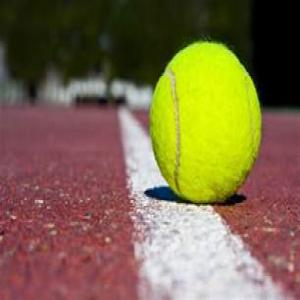Tennis: (151, 41, 261, 210)
